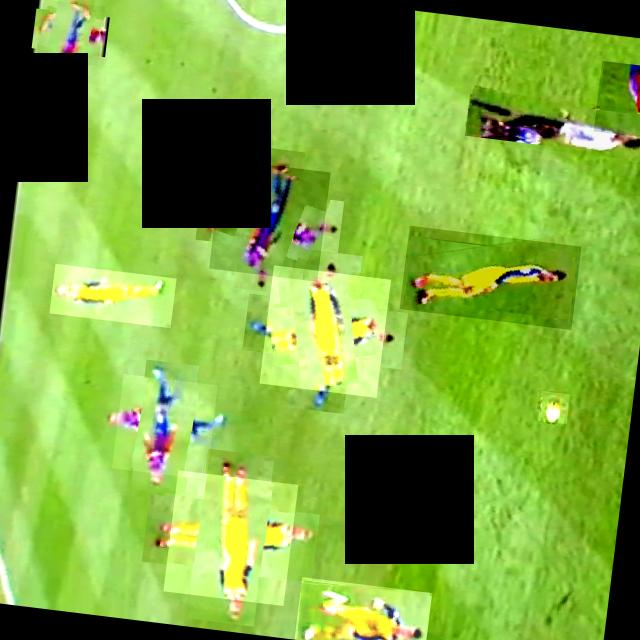ball: (538, 390, 570, 422)
referee: (463, 87, 640, 162)
soccer-player: (399, 224, 581, 328), (163, 468, 298, 604), (259, 264, 391, 396), (208, 158, 330, 280), (111, 372, 218, 478), (294, 576, 432, 640), (49, 262, 176, 326), (36, 0, 105, 65), (593, 59, 640, 138)
